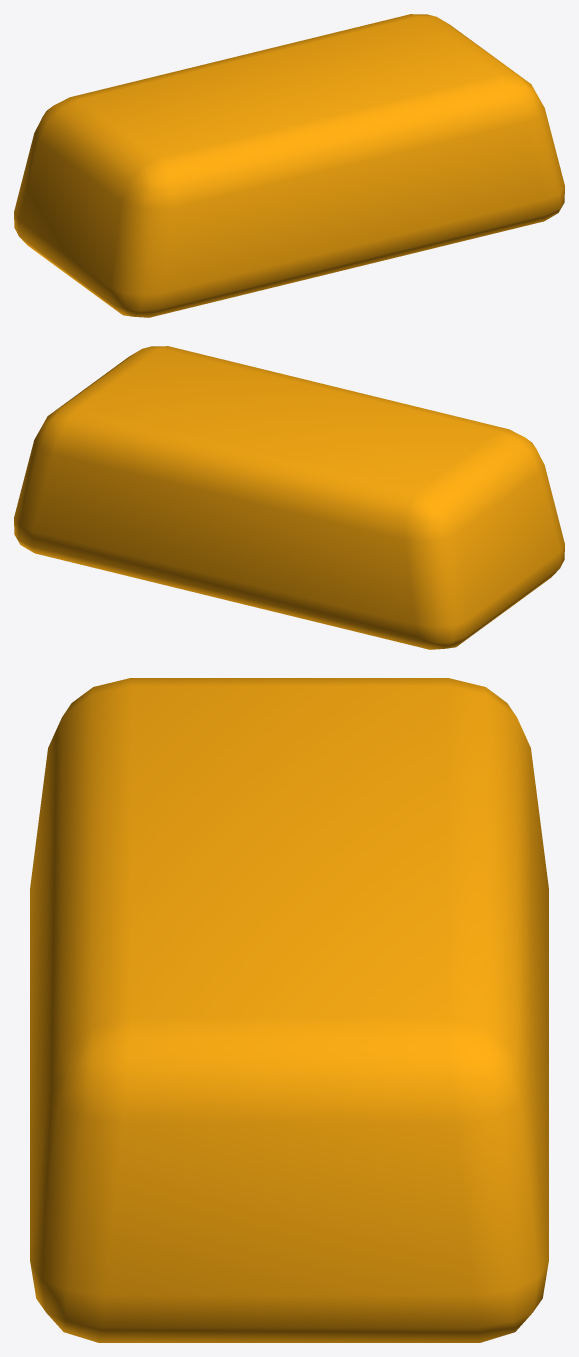
The model's file is Gold.fbx.
3 renders of one model, top to bottom at view 1: azimuth 30°, elevation 25°; view 2: azimuth 150°, elevation 25°; view 3: azimuth 270°, elevation 25°, orthographic. The views are drawn at different scales.
Parts seen in each view (by area): view 1: Gold; view 2: Gold; view 3: Gold.
Boxes of the visible parts, x1,y1,x2,y2 form: Gold: [14, 14, 564, 317]; Gold: [14, 346, 564, 649]; Gold: [30, 678, 548, 1342].
Bounding box in the file's own units: 175 × 54 × 87.36.
